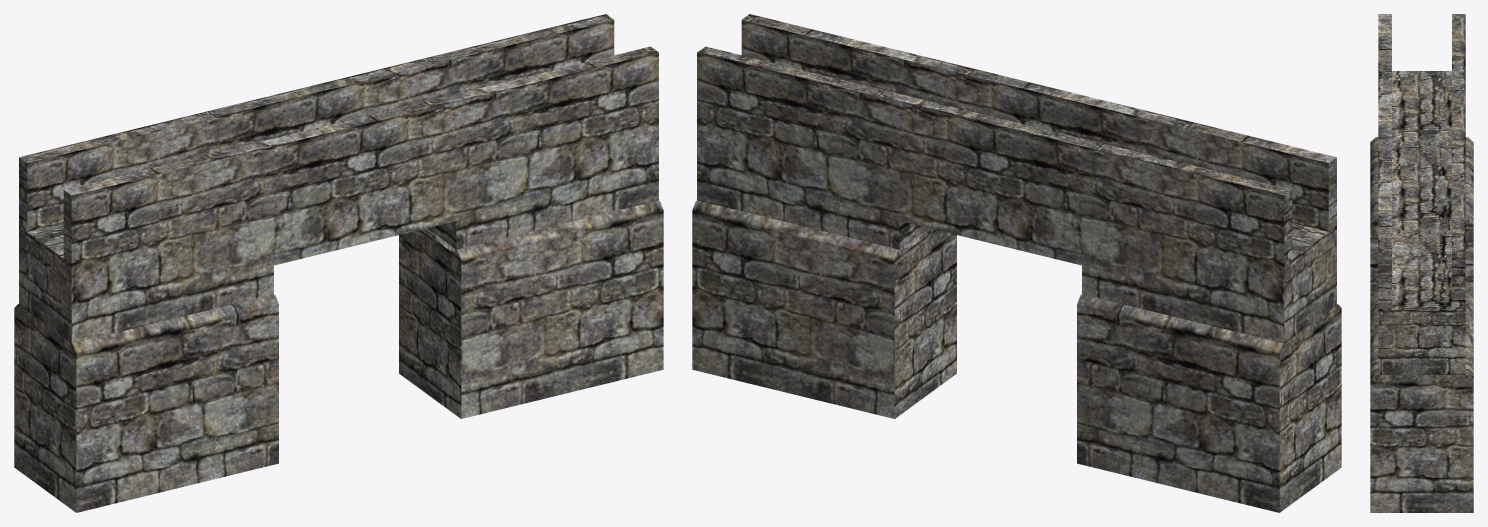
Rendered from inca_wall_gate.dae.
3 renders of one model, left to right at view 1: azimuth 30°, elevation 25°; view 2: azimuth 150°, elevation 25°; view 3: azimuth 270°, elevation 25°, orthographic. The views are drawn at different scales.
Parts seen in each view (by area): view 1: wall_inca_gate; view 2: wall_inca_gate; view 3: wall_inca_gate.
Part boxes in pixels (bbox=[...]): wall_inca_gate: bbox=[14, 14, 663, 512]; wall_inca_gate: bbox=[692, 14, 1341, 512]; wall_inca_gate: bbox=[1370, 14, 1473, 512].
Size of the model in its own units: 31.68 by 5.8 by 16.18.
